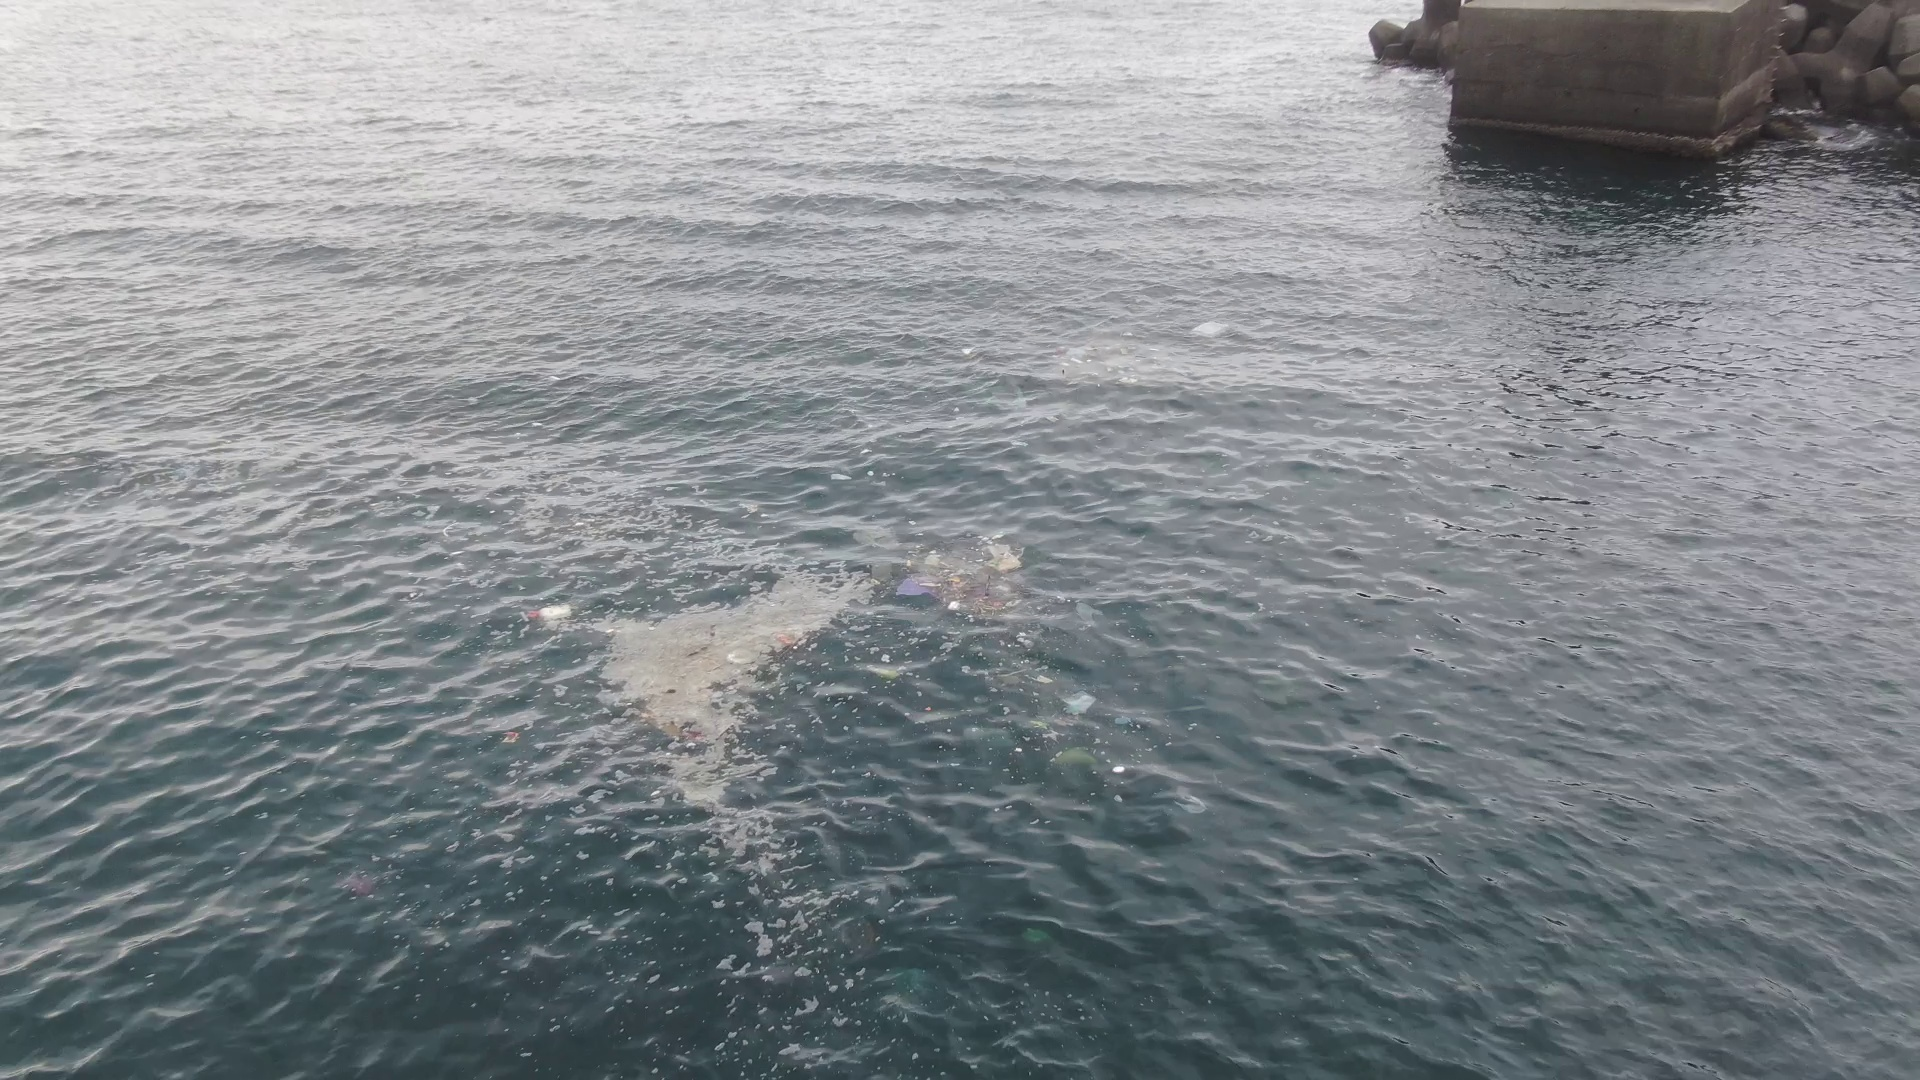garbage: (502, 522, 1145, 785), (1187, 318, 1230, 338)
